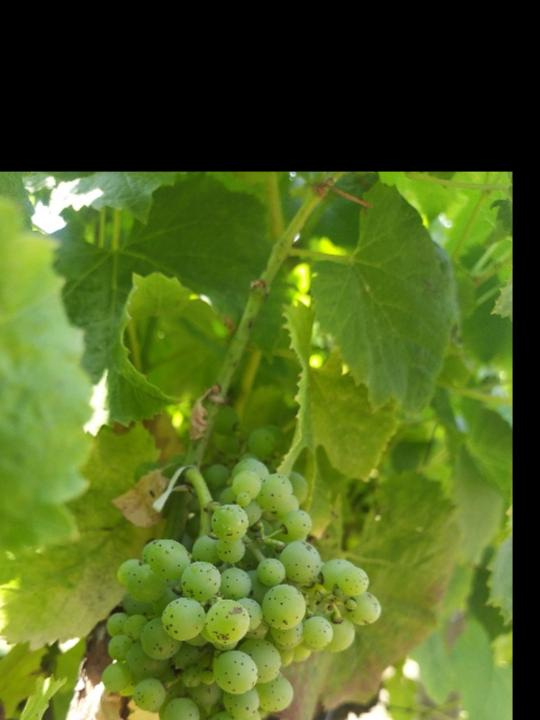grape: (102, 456, 384, 720)
